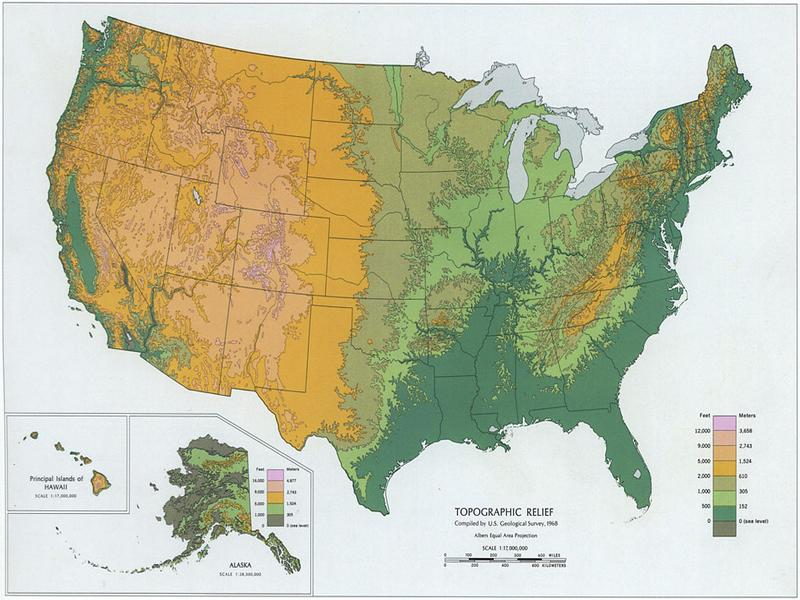legend: (692, 409, 770, 538), (251, 463, 311, 531)
